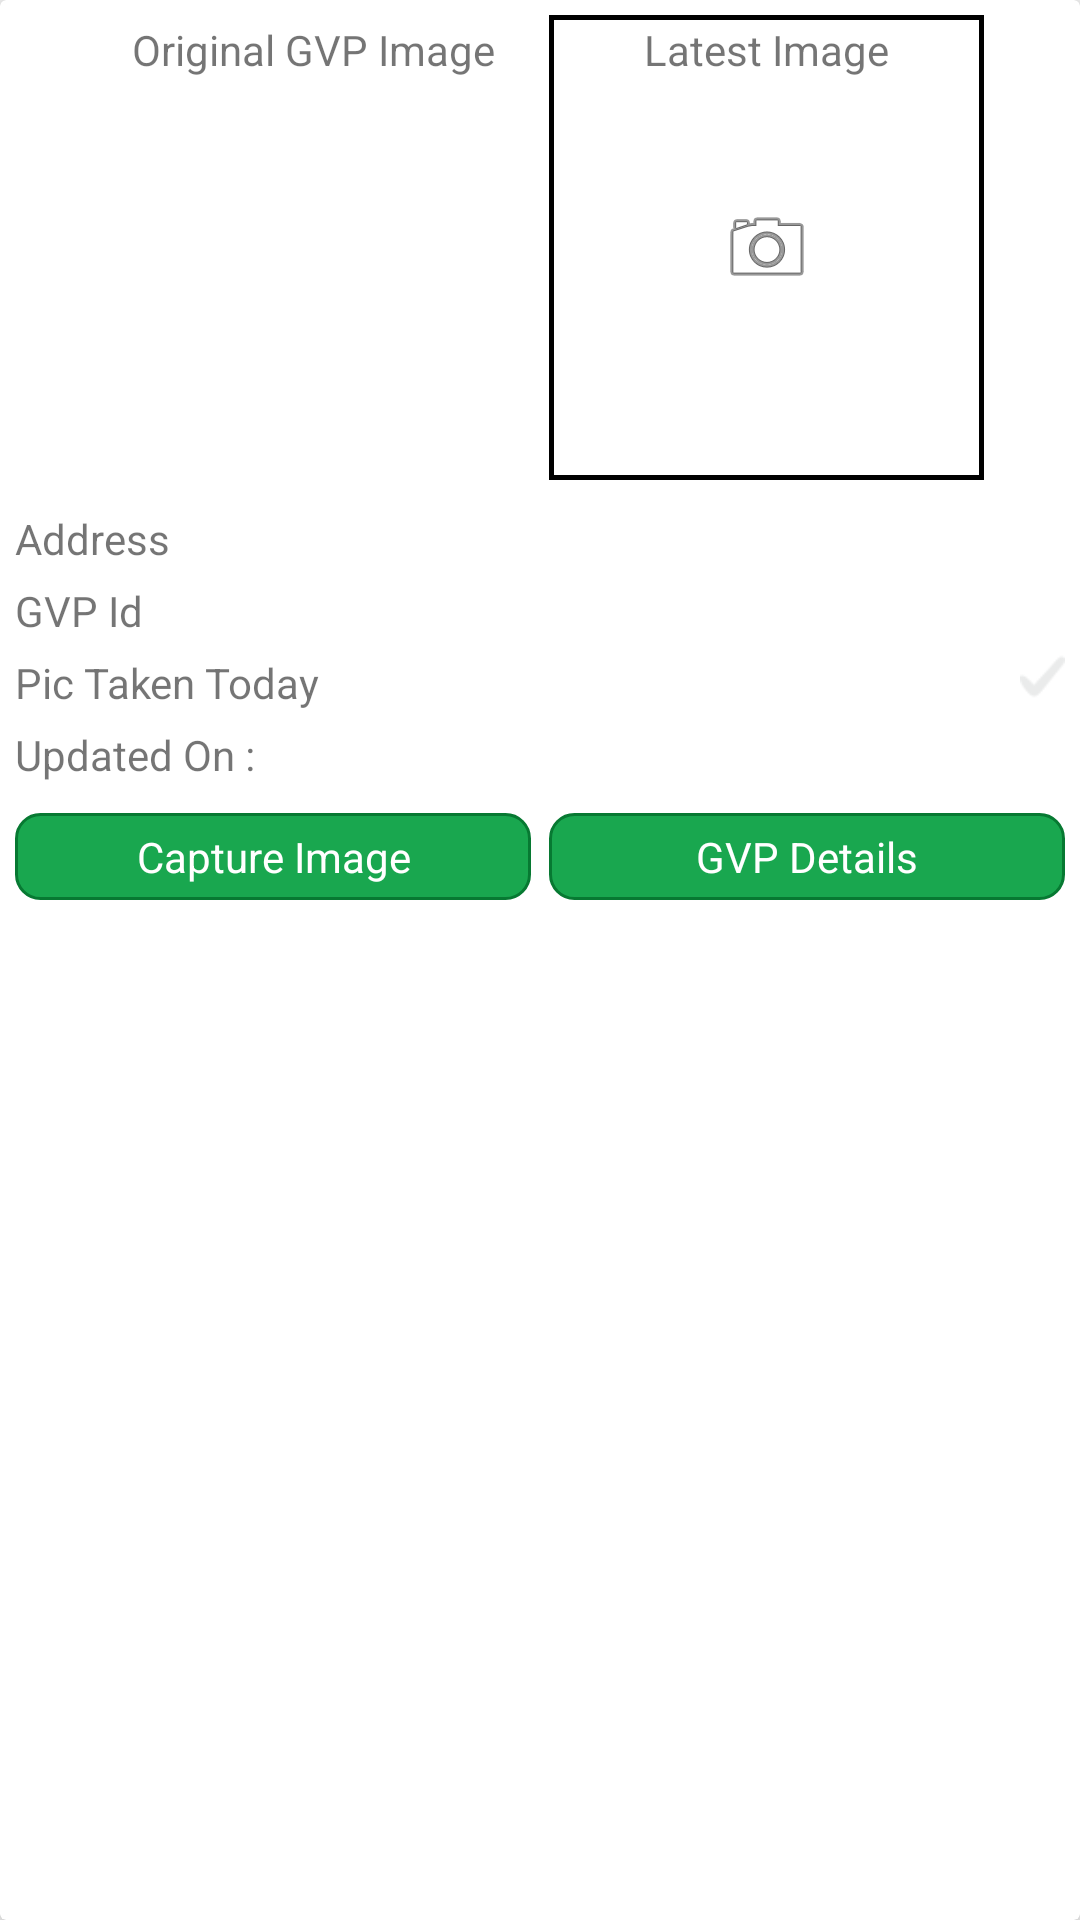

Screen size 1080w x 1920h. Icon name, then its center in pixels as (x,y):
camera: (767,246)
